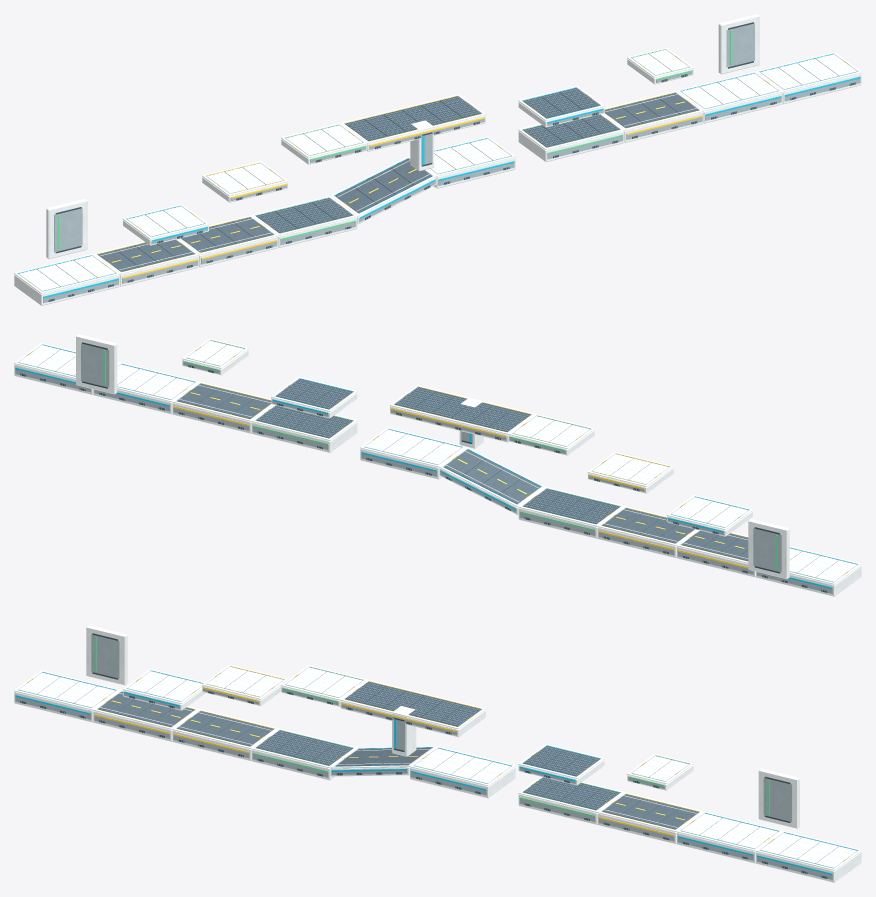
File: level-demo.glb
3 renders of one model, top to bottom at view 1: azimuth 30°, elevation 25°; view 2: azimuth 150°, elevation 25°; view 3: azimuth 330°, elevation 25°, orthographic.
Visible parts, largest first — view 1: 13_bridge-grate-6m, 00_ground-panel-4m, 04_ramp-road-4m, 06_ground-grate-4m, 03_ground-grate-4m, 08_ground-panel-4m, 09_ground-panel-4m, 07_ground-road-4m, 01_ground-road-4m, 02_ground-road-4m, 05_ground-panel-4m, 14_platform-grate-3m (+7 smaller); view 2: 13_bridge-grate-6m, 04_ramp-road-4m, 06_ground-grate-4m, 05_ground-panel-4m, 03_ground-grate-4m, 07_ground-road-4m, 02_ground-road-4m, 00_ground-panel-4m, 08_ground-panel-4m, 01_ground-road-4m, 12_platform-green-3m, 14_platform-grate-3m (+6 smaller); view 3: 13_bridge-grate-6m, 05_ground-panel-4m, 09_ground-panel-4m, 03_ground-grate-4m, 02_ground-road-4m, 00_ground-panel-4m, 07_ground-road-4m, 08_ground-panel-4m, 06_ground-grate-4m, 01_ground-road-4m, 14_platform-grate-3m, 11_platform-yellow-3m (+7 smaller).
Part boxes in pixels (<box>): 13_bridge-grate-6m: <box>340,94,486,151</box>; 00_ground-panel-4m: <box>14,253,120,305</box>; 04_ramp-road-4m: <box>330,156,436,224</box>; 06_ground-grate-4m: <box>518,114,624,161</box>; 03_ground-grate-4m: <box>251,196,357,247</box>; 08_ground-panel-4m: <box>677,71,782,123</box>; 09_ground-panel-4m: <box>756,52,861,104</box>; 07_ground-road-4m: <box>603,90,703,142</box>; 01_ground-road-4m: <box>93,239,199,286</box>; 02_ground-road-4m: <box>179,215,278,267</box>; 05_ground-panel-4m: <box>428,136,515,188</box>; 14_platform-grate-3m: <box>518,86,604,127</box>; 13_bridge-grate-6m: <box>389,385,535,442</box>; 04_ramp-road-4m: <box>439,447,545,514</box>; 06_ground-grate-4m: <box>251,404,357,452</box>; 05_ground-panel-4m: <box>360,427,465,479</box>; 03_ground-grate-4m: <box>518,487,624,538</box>; 07_ground-road-4m: <box>172,381,272,433</box>; 02_ground-road-4m: <box>597,506,696,557</box>; 00_ground-panel-4m: <box>756,546,861,596</box>; 08_ground-panel-4m: <box>93,362,199,414</box>; 01_ground-road-4m: <box>676,530,755,577</box>; 12_platform-green-3m: <box>508,414,594,455</box>; 14_platform-grate-3m: <box>271,376,357,418</box>; 13_bridge-grate-6m: <box>340,679,485,737</box>; 05_ground-panel-4m: <box>409,746,515,798</box>; 09_ground-panel-4m: <box>755,830,861,882</box>; 03_ground-grate-4m: <box>251,728,357,780</box>; 02_ground-road-4m: <box>172,709,278,760</box>; 00_ground-panel-4m: <box>14,670,119,722</box>; 07_ground-road-4m: <box>597,792,703,843</box>; 08_ground-panel-4m: <box>676,811,782,863</box>; 06_ground-grate-4m: <box>518,776,624,824</box>; 01_ground-road-4m: <box>93,689,198,741</box>; 14_platform-grate-3m: <box>518,744,604,785</box>; 11_platform-yellow-3m: <box>202,664,288,706</box>.
Size of the model in its own units: 41.5 by 4.05 by 3.16.
1 material, 1 textured.
